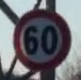limite 60: (12, 7, 70, 71)
